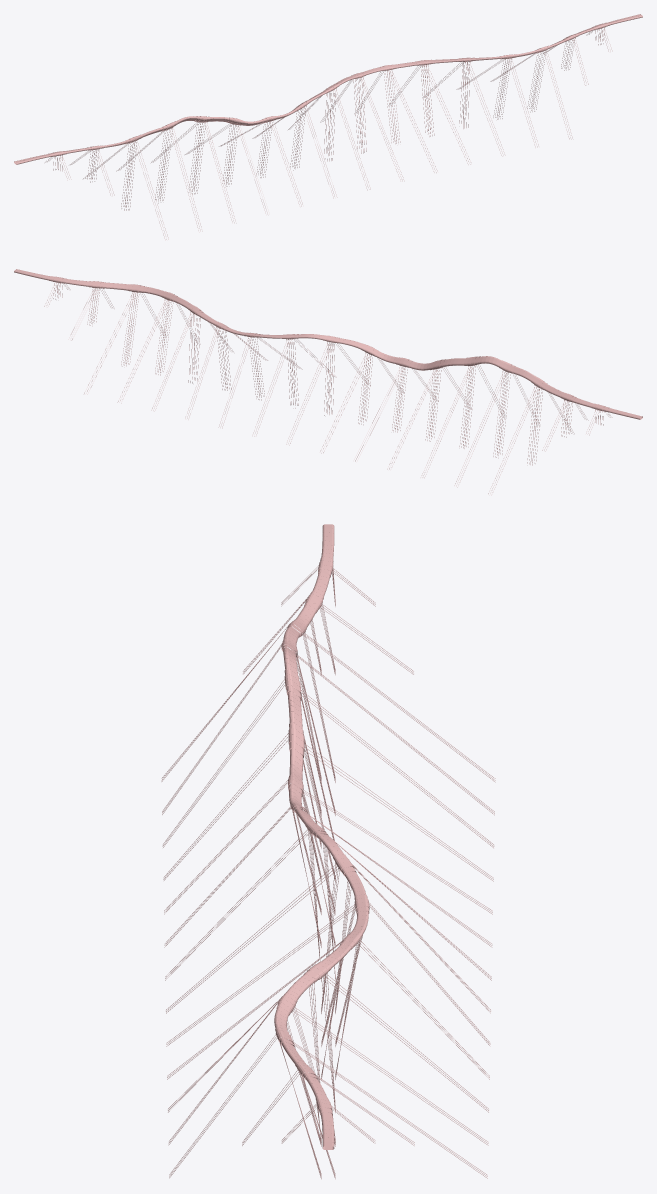
File: structure_sf.glb
3 views of the same model, one above another, from view 1: azimuth 30°, elevation 25°; view 2: azimuth 150°, elevation 25°; view 3: azimuth 270°, elevation 25° (orthographic). The views are drawn at different scales.
Visible parts, largest first — view 1: n1; view 2: n1; view 3: n1.
Part boxes in pixels (<box>): n1: <box>14,14,642,240</box>; n1: <box>14,269,642,495</box>; n1: <box>161,524,495,1179</box>.
Bounding box in the file's own units: 3700 × 498 × 856.
